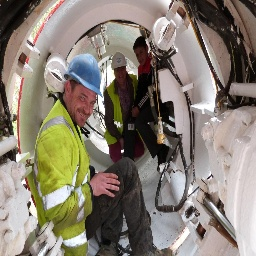helmet: (63, 54, 104, 99), (110, 51, 129, 74)
person: (30, 50, 105, 256)
vest: (33, 107, 83, 238)
